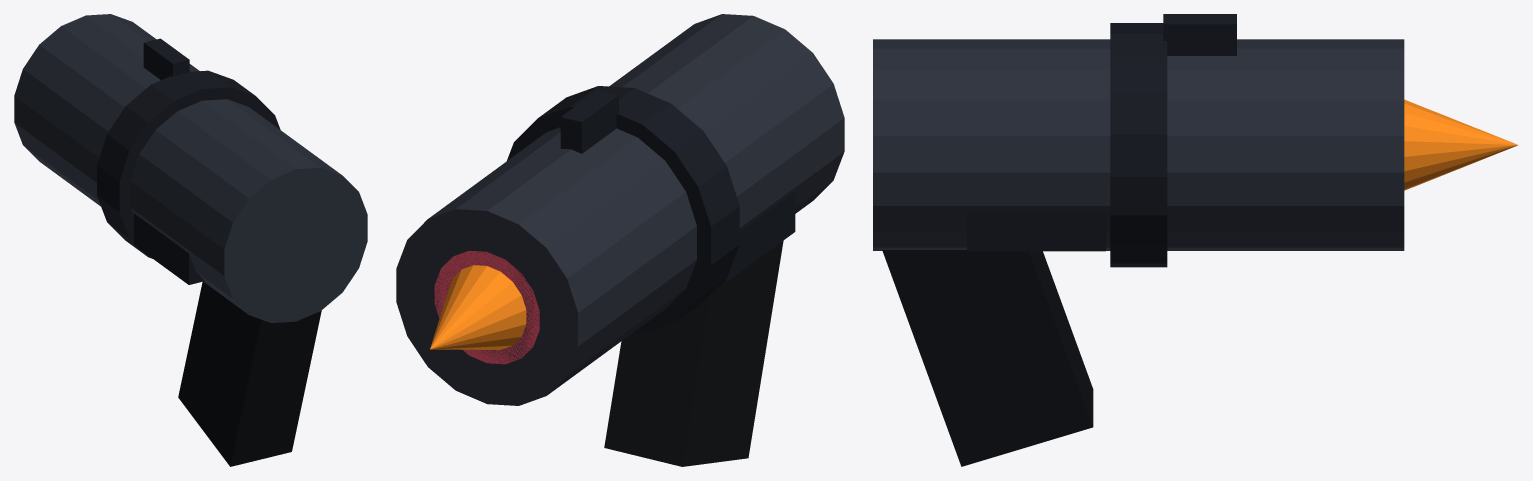
The model's file is rocket.glb.
The picture shows the model from 3 angles, left to right: view 1: azimuth 30°, elevation 25°; view 2: azimuth 150°, elevation 25°; view 3: azimuth 270°, elevation 25°; orthographic projection. The views are drawn at different scales.
Visible parts, largest first — view 1: Cylinder, Cube, Cylinder.001, Cube.001, Cube.002; view 2: Cylinder, Cube, Cylinder.001, Cone, Cylinder.002, Cube.002, Cube.001; view 3: Cylinder, Cube, Cylinder.001, Cube.001, Cone, Cube.002.
Boxes of the visible parts, x1,y1,x2,y2 form: Cylinder: [14, 14, 367, 322]; Cube: [178, 281, 321, 466]; Cylinder.001: [97, 70, 280, 258]; Cube.001: [134, 213, 204, 284]; Cube.002: [143, 38, 189, 80]; Cylinder: [396, 14, 844, 405]; Cube: [604, 240, 783, 466]; Cylinder.001: [507, 86, 739, 333]; Cone: [430, 265, 526, 349]; Cylinder.002: [434, 250, 539, 364]; Cube.002: [560, 90, 618, 153]; Cube.001: [723, 192, 795, 282]; Cylinder: [873, 39, 1404, 250]; Cube: [882, 250, 1093, 466]; Cylinder.001: [1110, 23, 1167, 267]; Cube.001: [967, 211, 1105, 251]; Cone: [1404, 99, 1518, 190]; Cube.002: [1163, 14, 1236, 55].
Bounding box in the file's own units: 0.5909 × 1.16 × 1.58.
